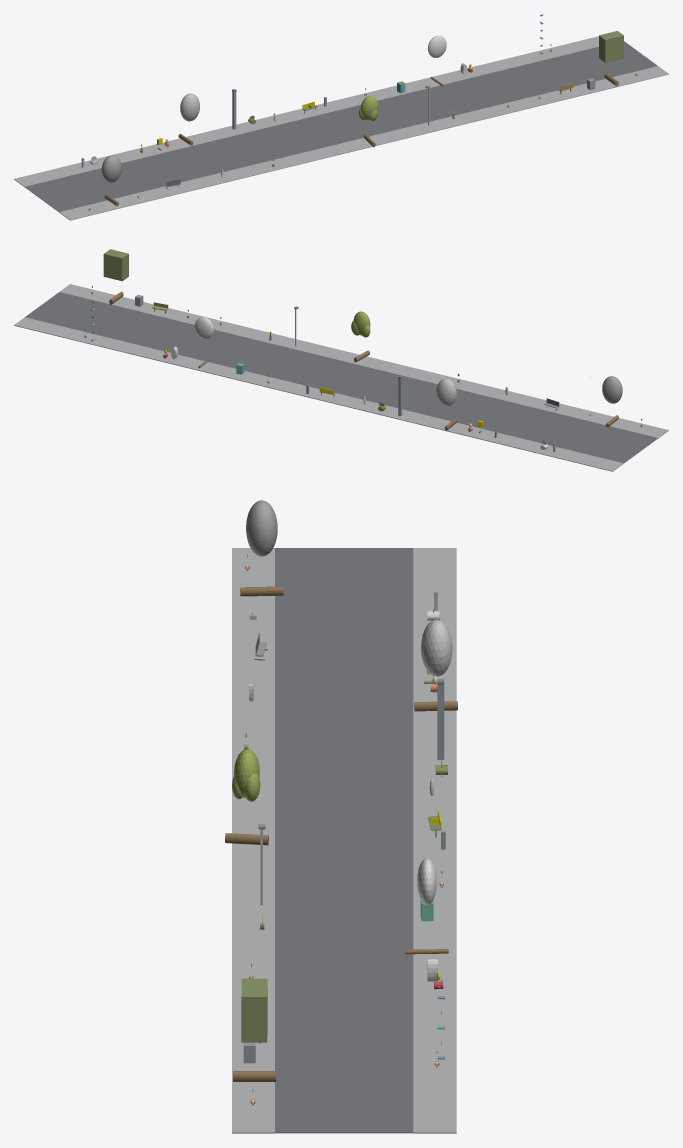
The picture shows the model from 3 angles, top to bottom: view 1: azimuth 30°, elevation 25°; view 2: azimuth 150°, elevation 25°; view 3: azimuth 270°, elevation 25°; orthographic projection. The views are drawn at different scales.
Parts seen in each view (by area): view 1: road_slab, sidewalk_left, sidewalk_right, inst_0016, inst_0013, inst_0012, inst_0014, inst_0015; view 2: road_slab, sidewalk_right, sidewalk_left, inst_0016, inst_0013, inst_0012, inst_0014, inst_0015; view 3: road_slab, sidewalk_right, sidewalk_left, inst_0016, inst_0012, inst_0013, inst_0014, inst_0015.
Part boxes in pixels (x1,y1,x2,y2): road_slab: (25,41,657,211); sidewalk_left: (59,66,668,220); sidewalk_right: (14,36,598,186); inst_0016: (599,31,623,86); inst_0013: (178,93,199,145); inst_0012: (101,155,121,206); inst_0014: (358,96,378,147); inst_0015: (427,35,446,86); road_slab: (25,292,658,463); sidewalk_right: (14,317,623,471); sidewalk_left: (59,284,668,438); inst_0016: (103,249,128,304); inst_0013: (436,378,457,430); inst_0012: (602,376,622,427); inst_0014: (351,311,370,362); inst_0015: (194,317,213,368); road_slab: (275,548,413,1133); sidewalk_right: (413,548,456,1133); sidewalk_left: (232,548,274,1133); inst_0016: (233,978,275,1081); inst_0012: (240,500,283,596); inst_0013: (414,619,457,711); inst_0014: (225,748,268,845); inst_0015: (405,858,448,954).
Size of the model in its own units: 80 by 6.08 by 13.47.
